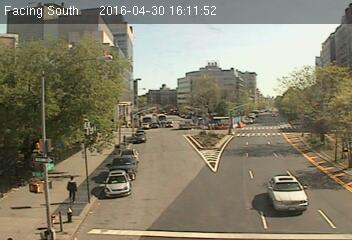neg: (301, 78, 332, 119), (48, 55, 78, 95), (188, 82, 217, 120), (190, 146, 218, 183), (151, 159, 179, 196), (17, 148, 45, 185), (238, 159, 265, 195), (278, 139, 302, 171), (27, 100, 50, 132), (247, 89, 270, 119), (141, 83, 163, 111), (121, 188, 142, 215), (102, 142, 120, 166), (29, 201, 46, 224), (64, 209, 76, 225)
pos: (60, 170, 85, 204)
